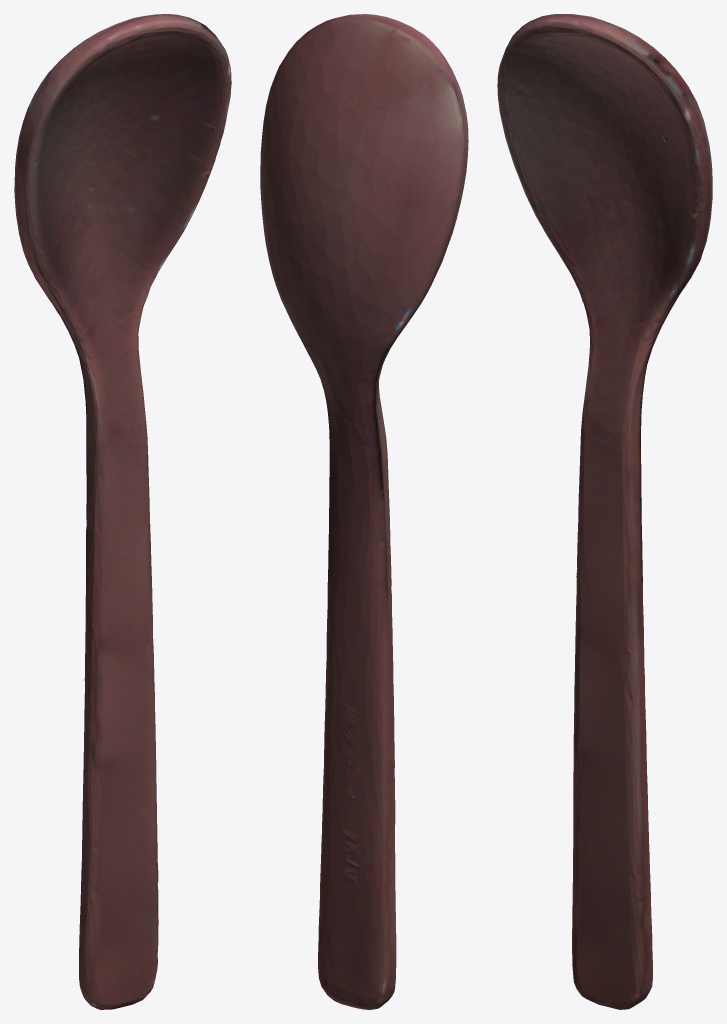
The model's file is Scan.obj.
3 views of the same model, side by side, from view 1: azimuth 30°, elevation 25°; view 2: azimuth 150°, elevation 25°; view 3: azimuth 330°, elevation 25° (orthographic). The views are drawn at different scales.
Parts seen in each view (by area): view 1: Scan.024; view 2: Scan.024; view 3: Scan.024.
Part boxes in pixels (x1,y1,x2,y2): Scan.024: (14,14,231,1009); Scan.024: (260,14,468,1009); Scan.024: (497,14,712,1009).
Bounding box in the file's own units: 0.0341 × 0.1591 × 0.0178.
1 material, 1 textured.
